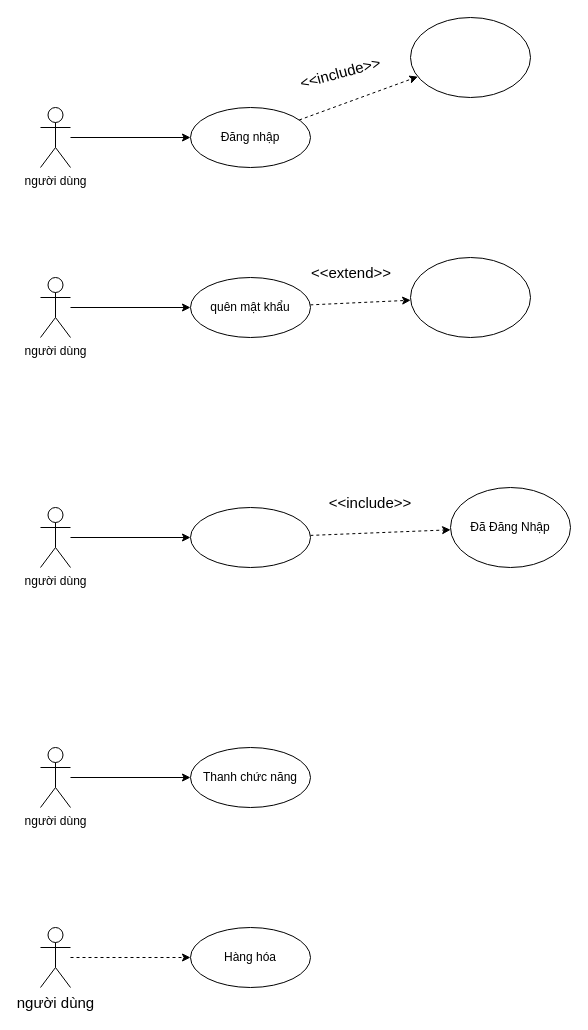
This 588x1030 diagram has some shape labels left out. The shapes that lost their labels are listed below. From the top down, each one's centre as x and y in pixels, then its label:
At (x=470, y=57): "Lấy lại mật khẩu".
At (x=470, y=297): "Nhập email".
At (x=250, y=537): "Trang chủ".
